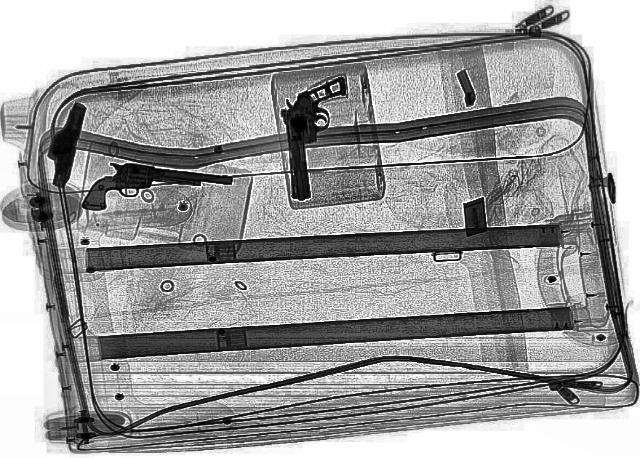Gun: (269, 77, 363, 200), (76, 160, 232, 220), (38, 100, 86, 188)
